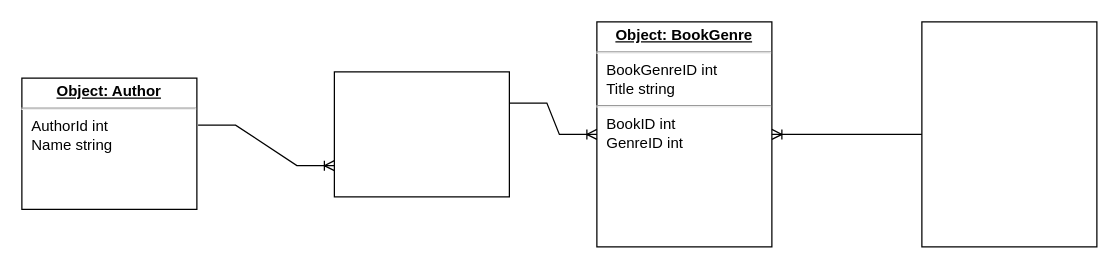
This 1119x269 diagram has some shape labels left out. Each missing label, with the box of its shape:
Object: Book BookID int Title string AuthtorID Authtor: (333, 71, 509, 197)
Object: Genre Name string GenreID int: (921, 21, 1097, 247)
